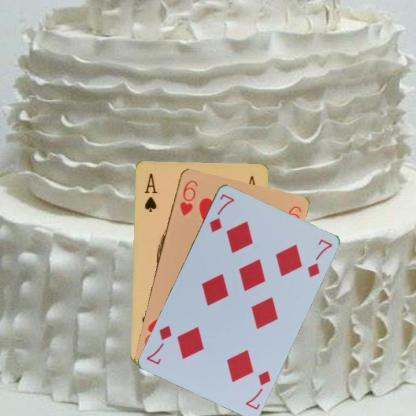6h: (177, 176, 199, 218)
7d: (206, 190, 236, 233), (243, 367, 272, 411)
As: (142, 170, 158, 214)
